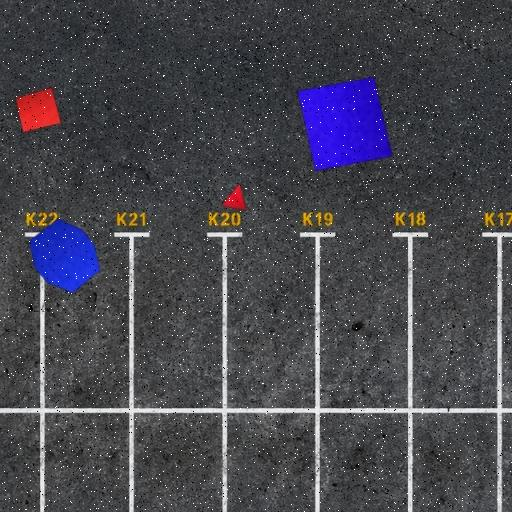BLUE_SQUARE: (296, 76, 394, 171)
RED_SQUARE: (14, 87, 62, 133)
